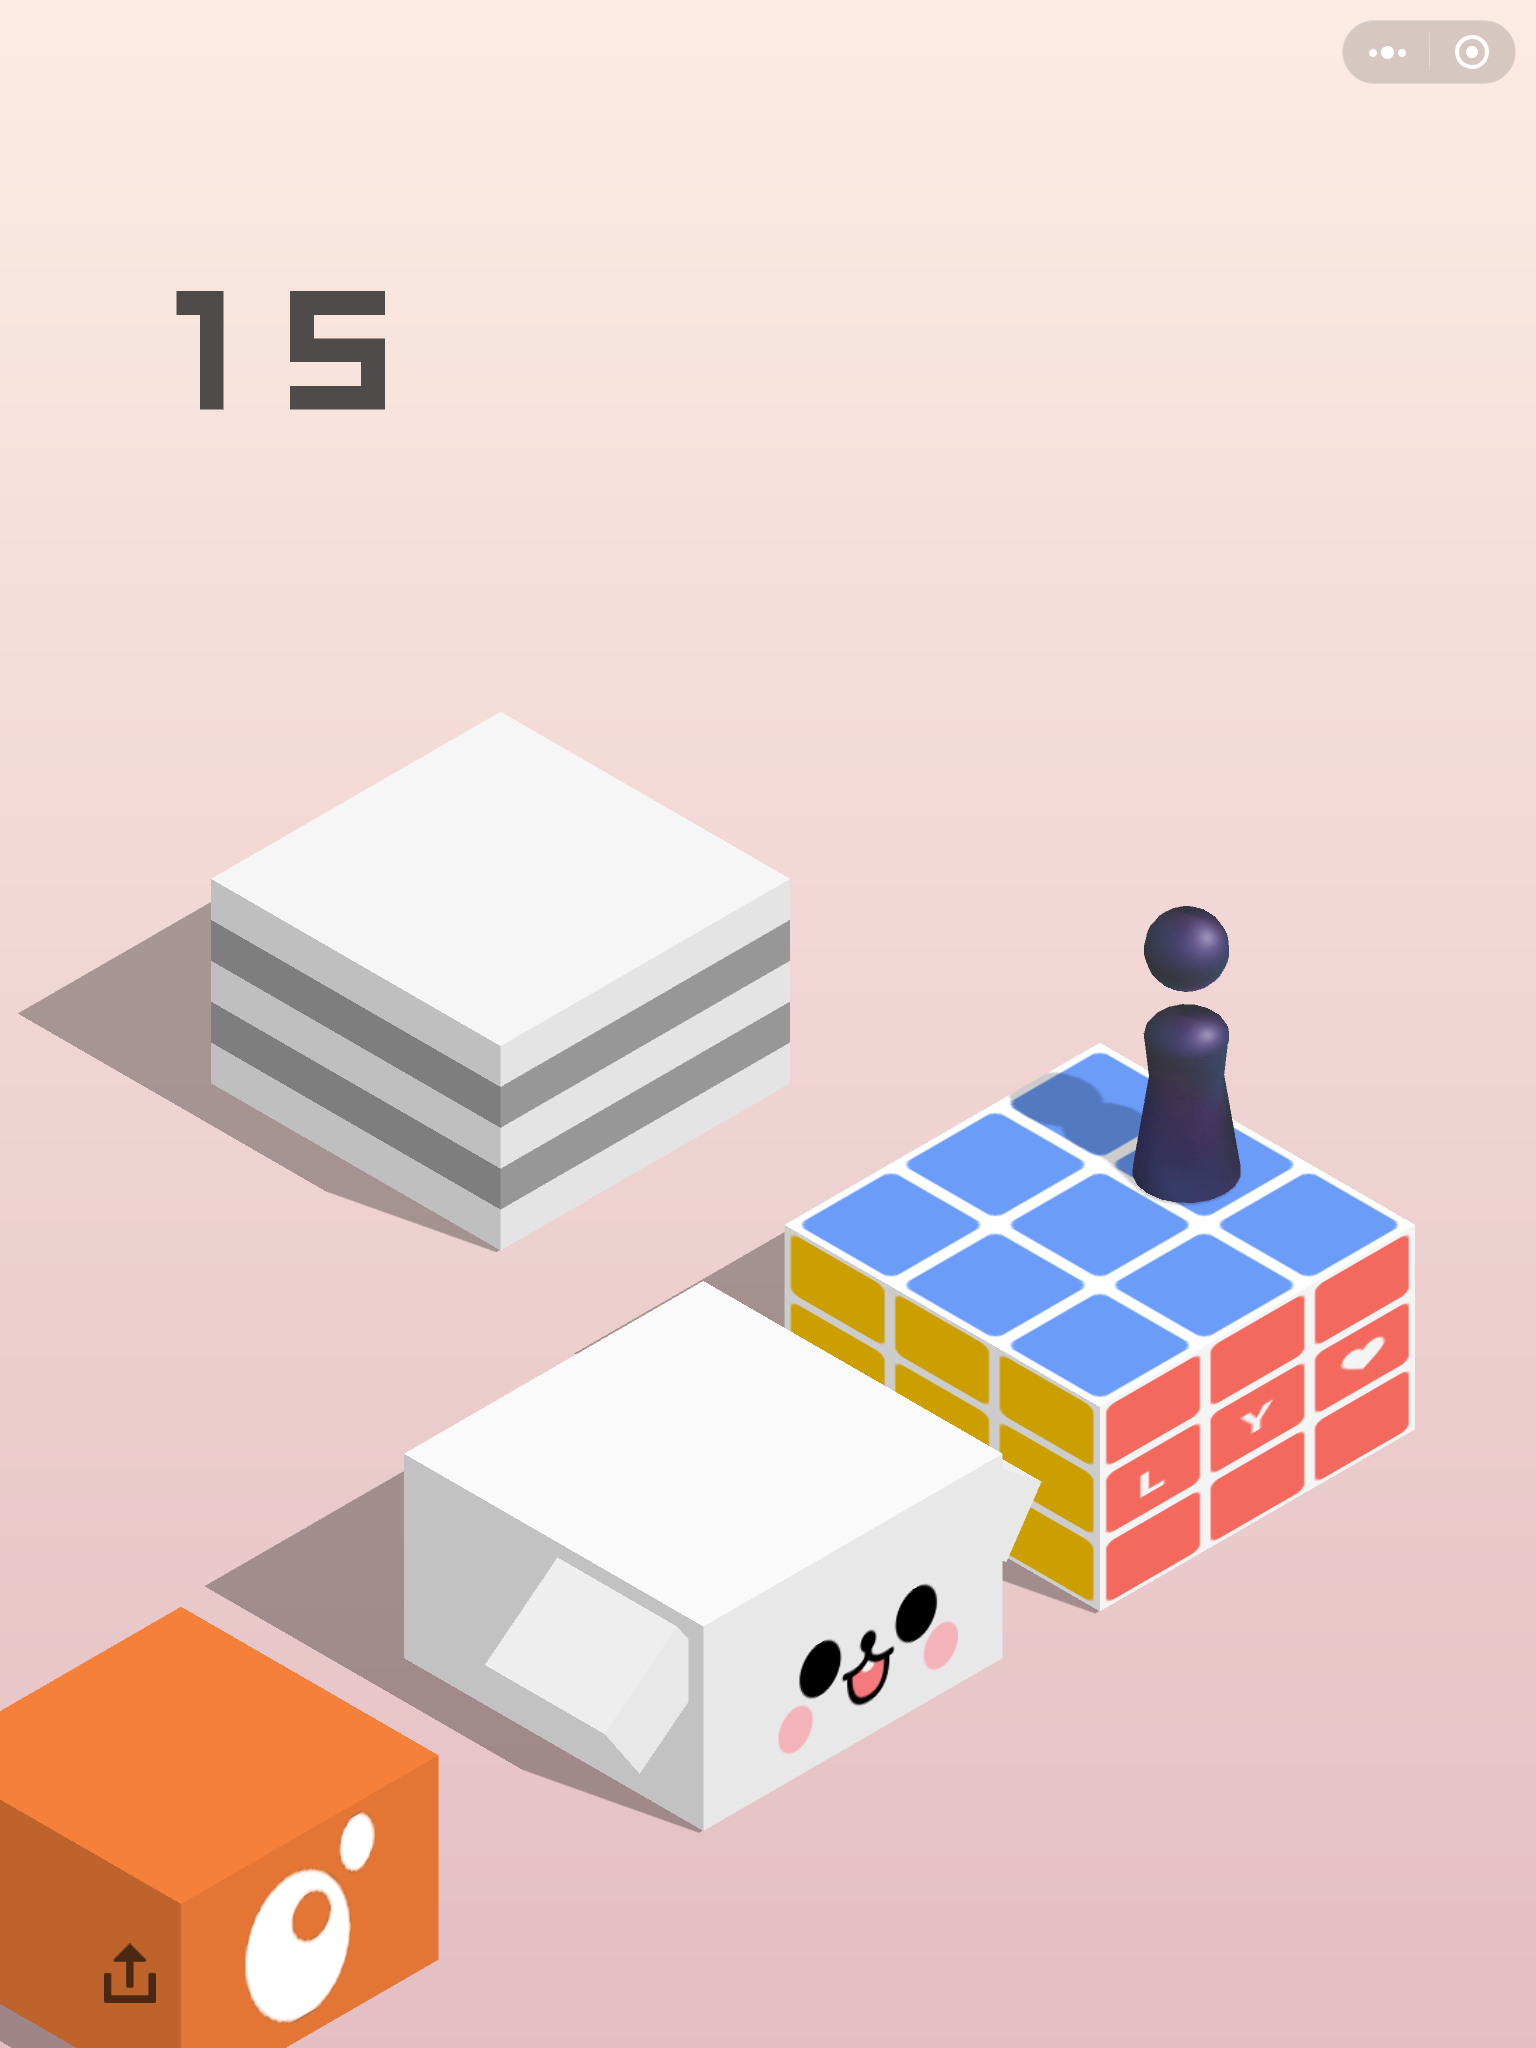f: (781, 1040, 1412, 1617), (394, 1279, 1042, 1834), (202, 706, 795, 1255), (2, 1603, 444, 2048)
r: (1128, 898, 1242, 1208)
